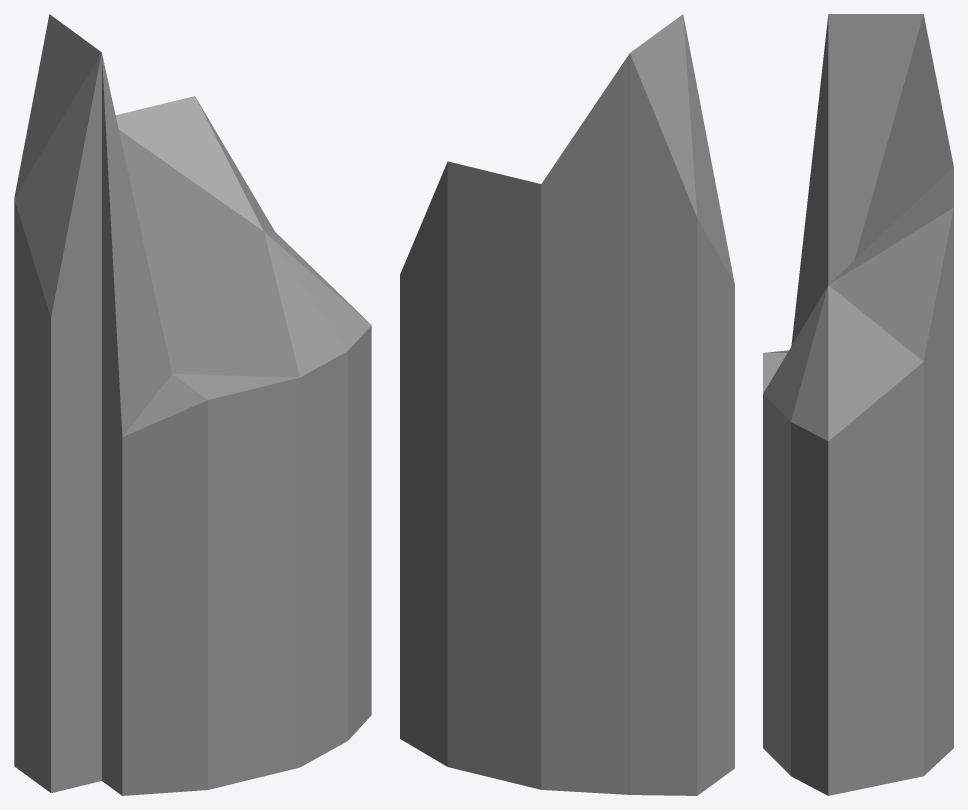
The model's file is Isl_14_Stone_3.fbx.
The picture shows the model from 3 angles, left to right: view 1: azimuth 30°, elevation 25°; view 2: azimuth 150°, elevation 25°; view 3: azimuth 270°, elevation 25°; orthographic projection. The views are drawn at different scales.
Parts seen in each view (by area): view 1: Isl_14_Stone_3; view 2: Isl_14_Stone_3; view 3: Isl_14_Stone_3.
Boxes of the visible parts, bbox=[...] form: Isl_14_Stone_3: bbox=[14, 14, 371, 795]; Isl_14_Stone_3: bbox=[400, 14, 734, 795]; Isl_14_Stone_3: bbox=[763, 14, 953, 795].
Size of the model in its own units: 224 by 127 by 487.
1 material, 1 textured.
